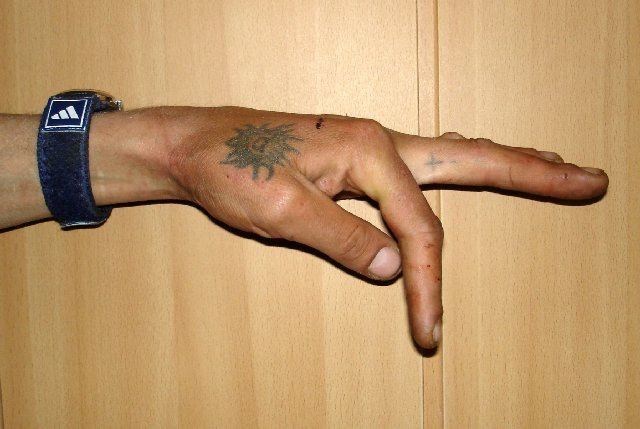tatu9_krest: (420, 150, 453, 175)
